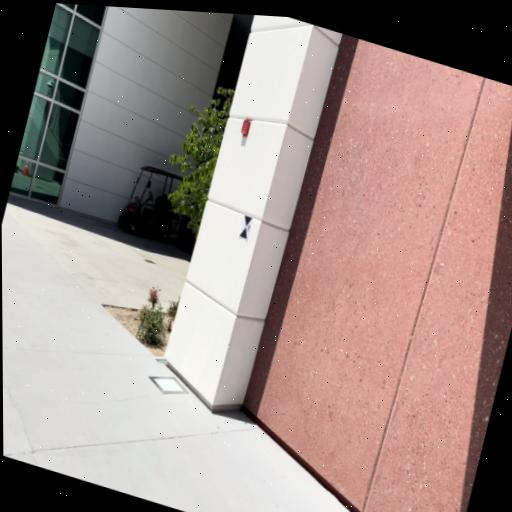target9: (239, 215, 253, 241)
